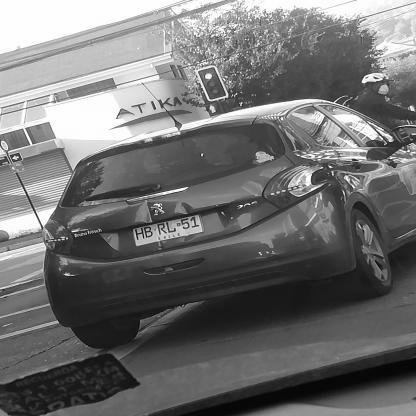Patente: (130, 213, 208, 249)
